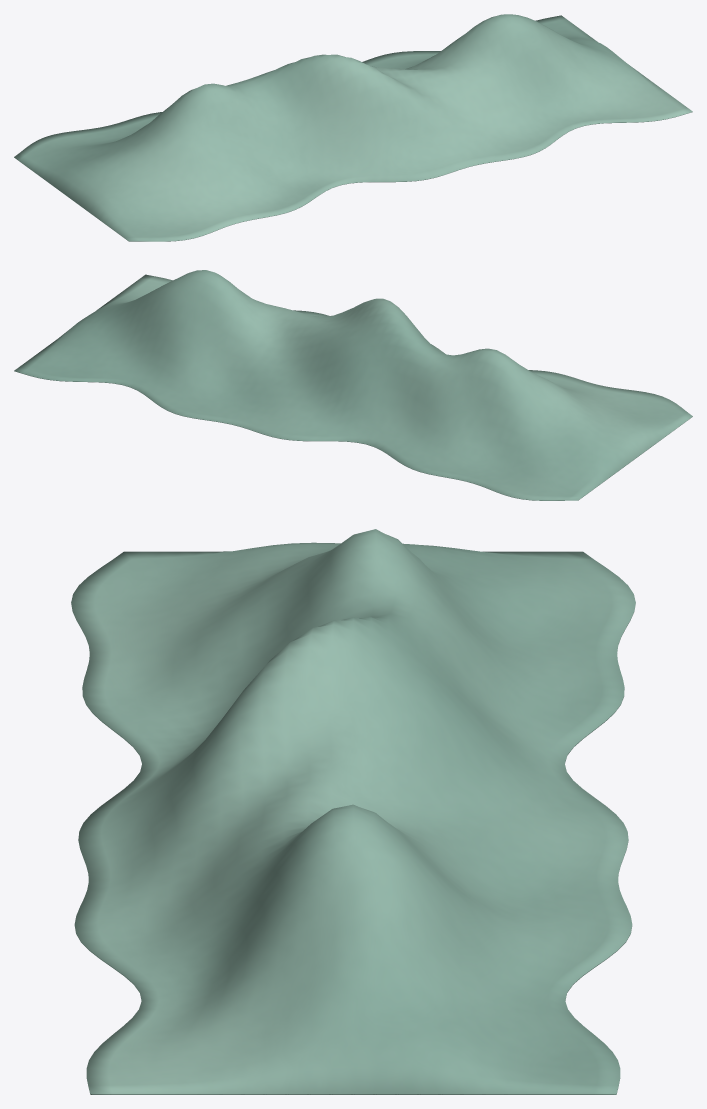
File: mountain_mid_B.glb
3 views of the same model, one above another, from view 1: azimuth 30°, elevation 25°; view 2: azimuth 150°, elevation 25°; view 3: azimuth 270°, elevation 25° (orthographic). The views are drawn at different scales.
Visible parts, largest first — view 1: mountain_mid_B; view 2: mountain_mid_B; view 3: mountain_mid_B.
Part boxes in pixels (bbox=[...]): mountain_mid_B: bbox=[14, 14, 692, 241]; mountain_mid_B: bbox=[14, 270, 692, 500]; mountain_mid_B: bbox=[71, 529, 635, 1094].
Size of the model in its own units: 48 by 7.16 by 21.11.
1 material, 1 textured.
